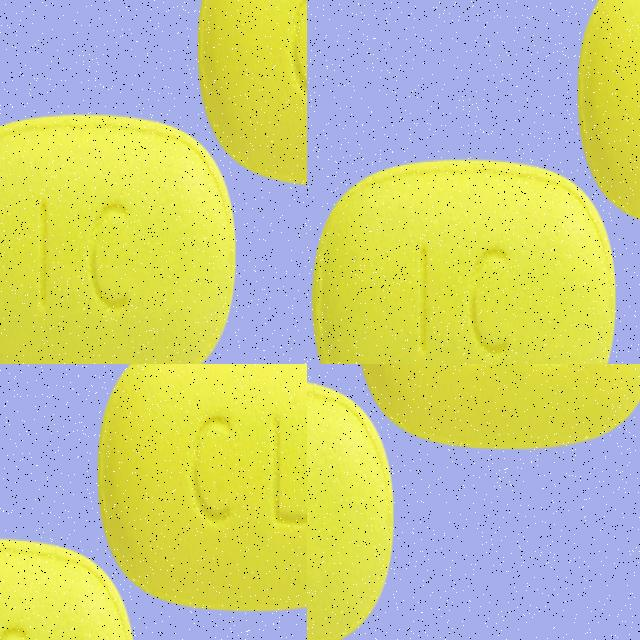Ciprobay: (42, 159, 294, 364)
Ciproctan - 500mg: (438, 208, 640, 364)
Clocin: (356, 364, 640, 449), (307, 375, 394, 640)
